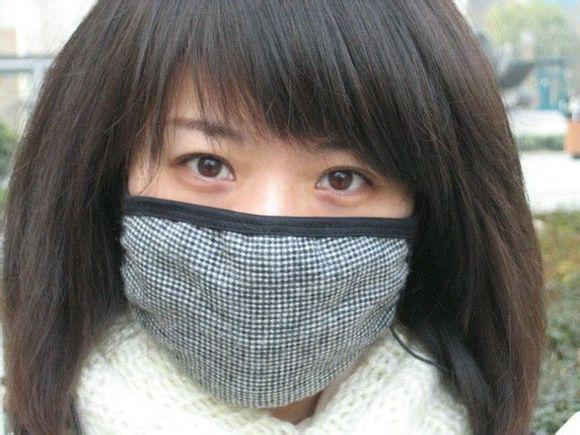OK: (129, 111, 403, 385)
